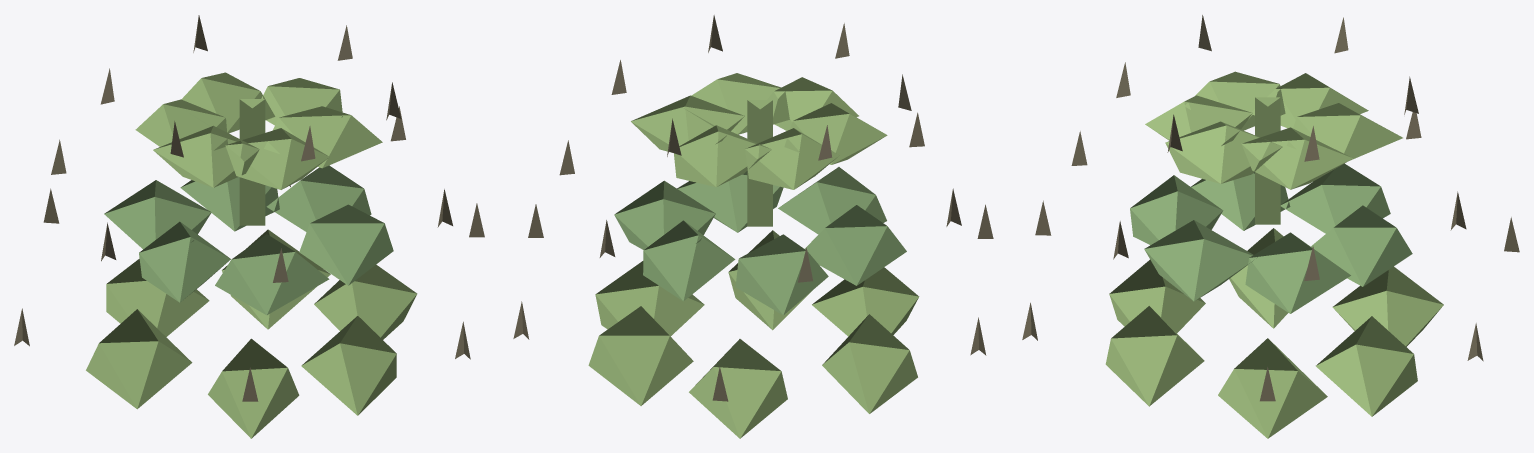
Rendered from cao.shamo@subadult__spring.glb.
3 renders of one model, left to right at view 1: azimuth 30°, elevation 25°; view 2: azimuth 150°, elevation 25°; view 3: azimuth 270°, elevation 25°, orthographic.
Parts seen in each view (by area): view 1: cao.shamo@subadult__spring; view 2: cao.shamo@subadult__spring; view 3: cao.shamo@subadult__spring.
Boxes of the visible parts, x1,y1,x2,y2 form: cao.shamo@subadult__spring: (14,15,484,438); cao.shamo@subadult__spring: (513,15,993,438); cao.shamo@subadult__spring: (1022,15,1519,438).
Bounding box in the file's own units: 0.9884 × 0.6386 × 0.9117.
